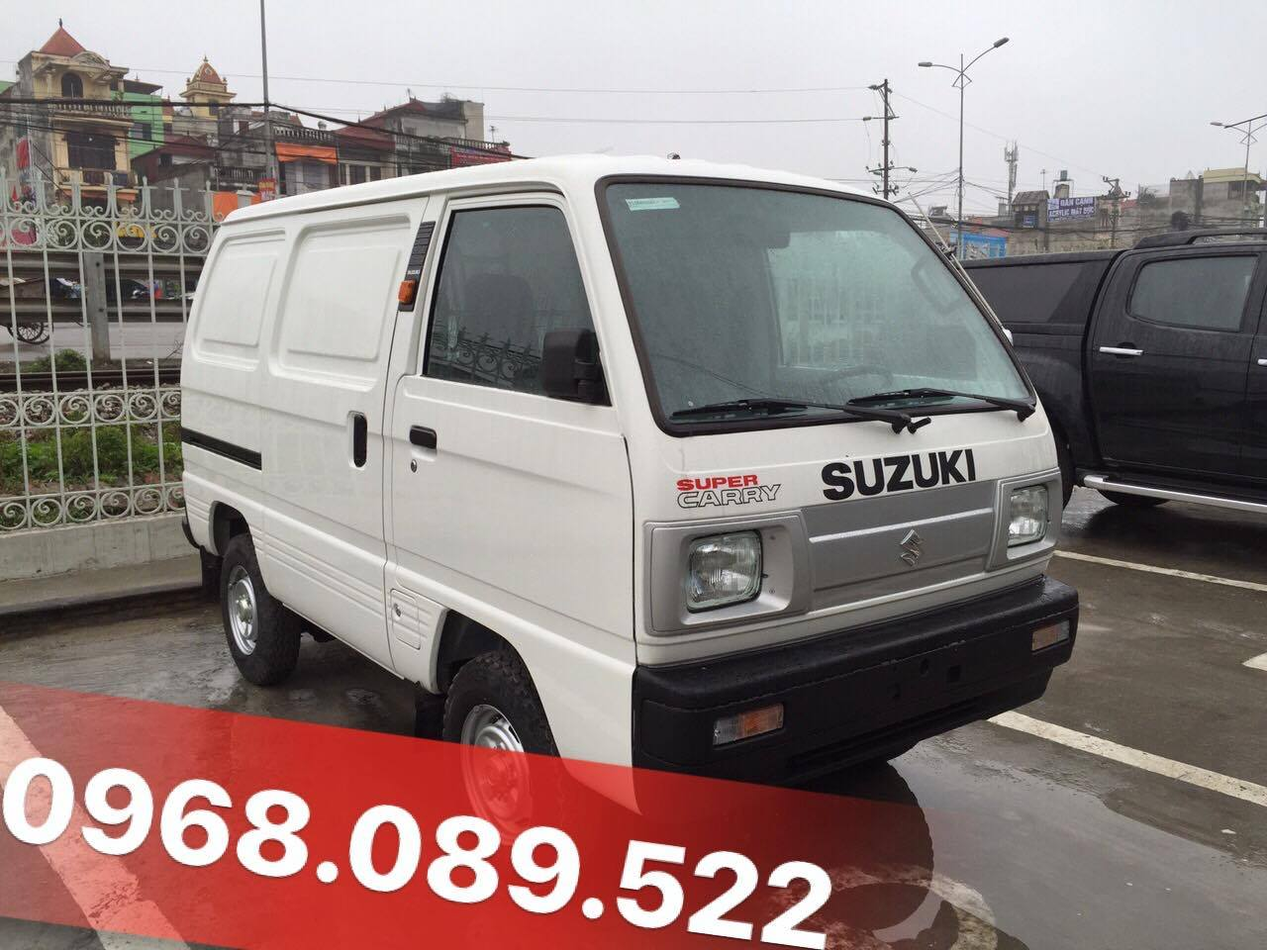oto: (1072, 220, 1267, 601)
xe_van: (174, 138, 1077, 916)
